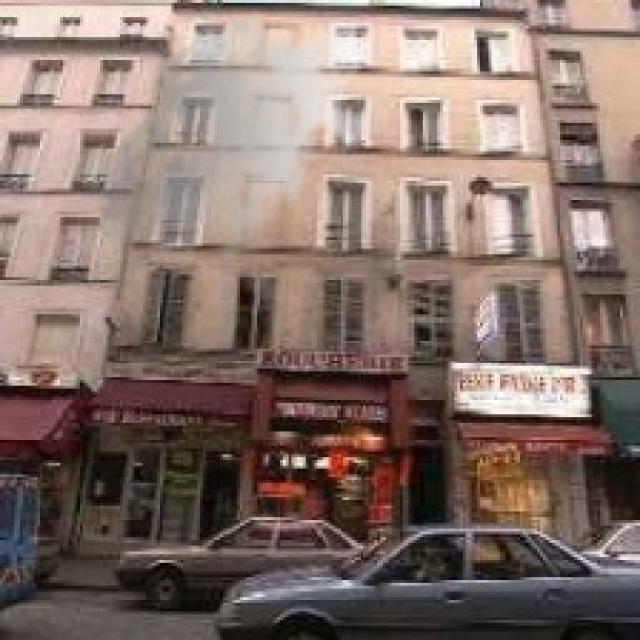smoke: (94, 6, 369, 286)
